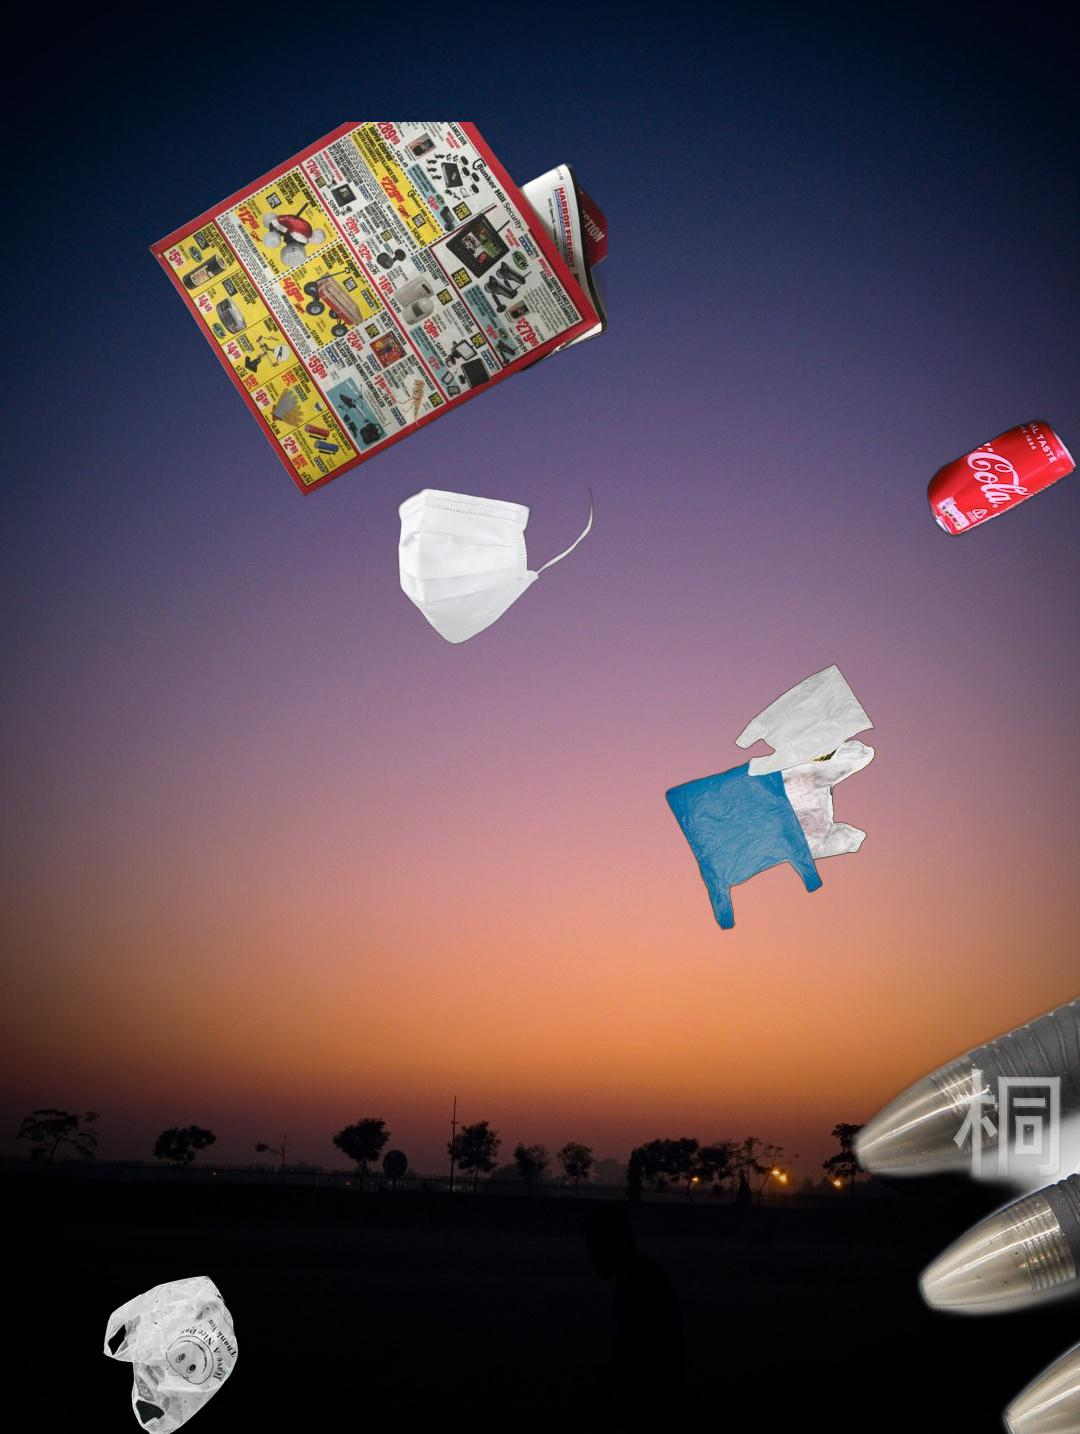metal-cans: (923, 415, 1080, 542)
paper: (144, 123, 607, 499)
penholder: (843, 616, 1080, 1434)
plastic-bag: (663, 663, 878, 933), (100, 1269, 242, 1434)
trash: (395, 486, 596, 647)
